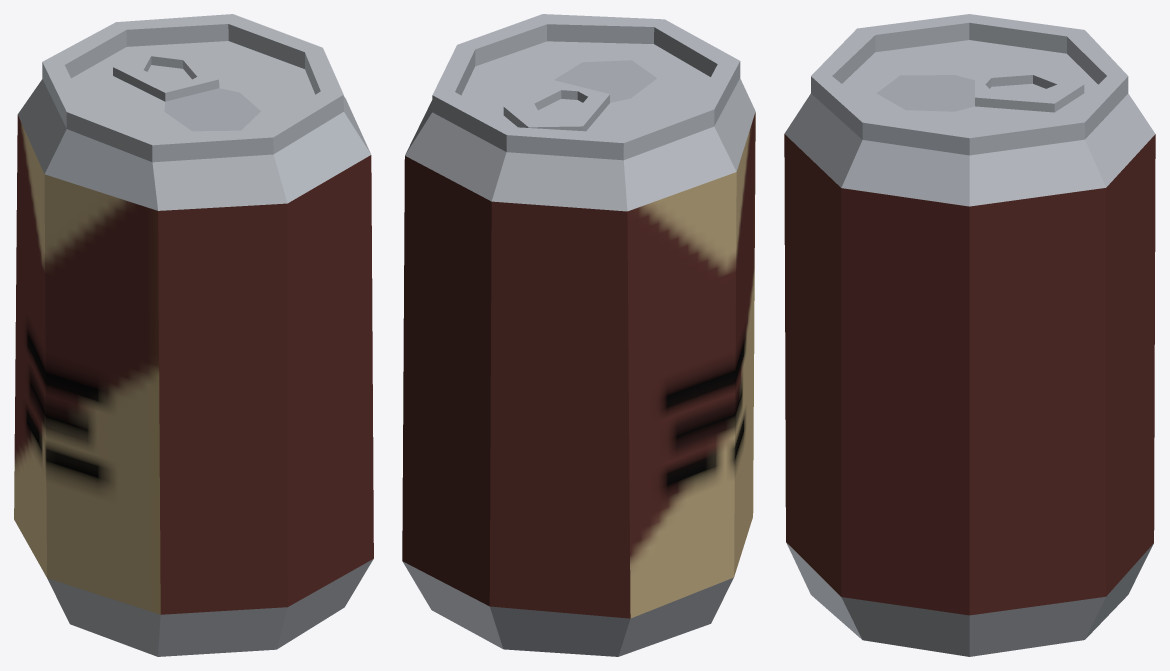
File: SM_Prop_Soda_Can_02.fbx
The picture shows the model from 3 angles, left to right: view 1: azimuth 30°, elevation 25°; view 2: azimuth 150°, elevation 25°; view 3: azimuth 270°, elevation 25°; orthographic projection.
Visible parts, largest first — view 1: SM_Soda_Can_02; view 2: SM_Soda_Can_02; view 3: SM_Soda_Can_02.
Part boxes in pixels (x1,y1,x2,y2): SM_Soda_Can_02: (14, 14, 373, 656); SM_Soda_Can_02: (402, 14, 755, 656); SM_Soda_Can_02: (784, 14, 1155, 656).
Size of the model in its own units: 8.91 by 14.42 by 9.35.
